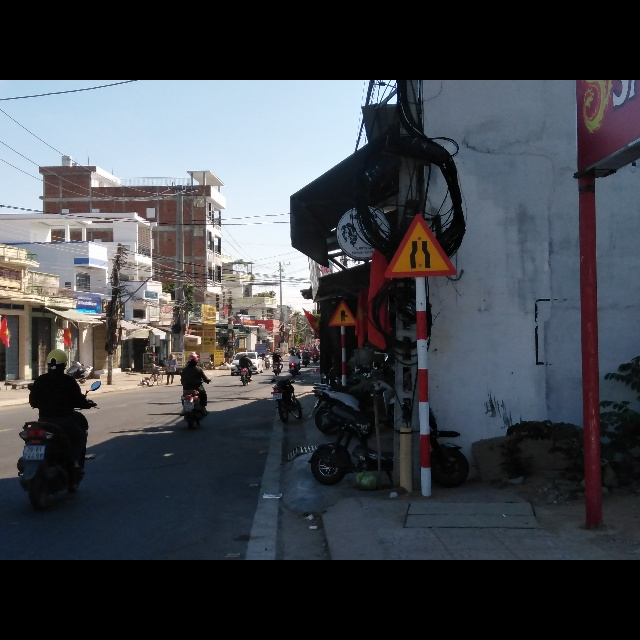Giao nhau với đường không ưu tiên: (330, 301, 359, 327)
Đường bị hẹp cả hai bên: (382, 212, 458, 278)
